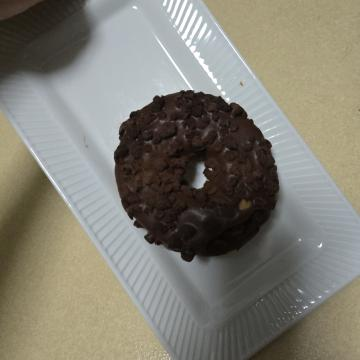doughnut: (83, 76, 273, 256)
